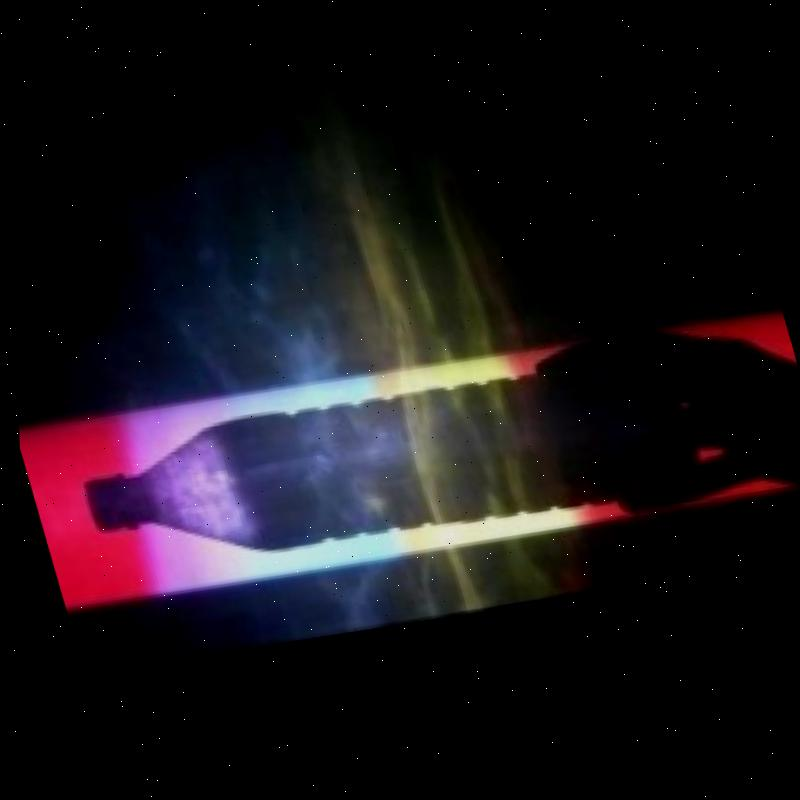botella: (58, 293, 706, 628)
